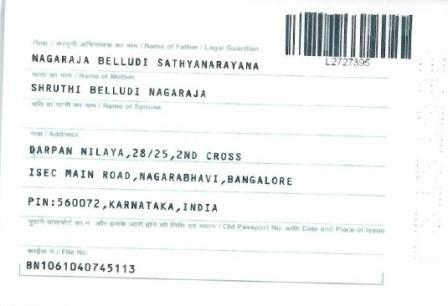File_no: (18, 256, 144, 280)
address: (25, 134, 298, 220)
father_name: (28, 48, 265, 72)
mother_name: (28, 81, 215, 102)
passport_no: (315, 55, 381, 71)
